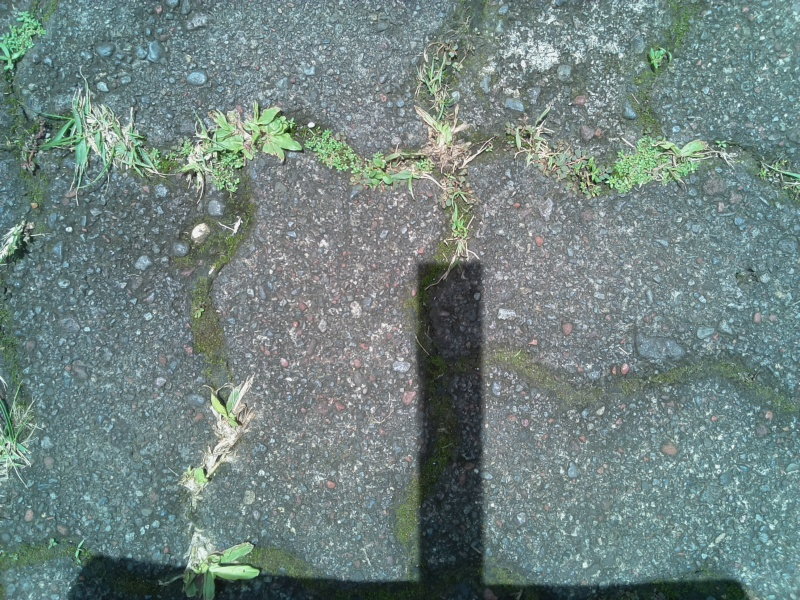Weed: (46, 85, 158, 190), (184, 101, 301, 185), (177, 386, 259, 498), (410, 59, 476, 164), (601, 130, 707, 194), (302, 124, 391, 196), (168, 530, 265, 594), (1, 369, 36, 478), (439, 201, 483, 275), (1, 11, 46, 72), (513, 122, 553, 163), (1, 216, 32, 266), (641, 42, 673, 76)
